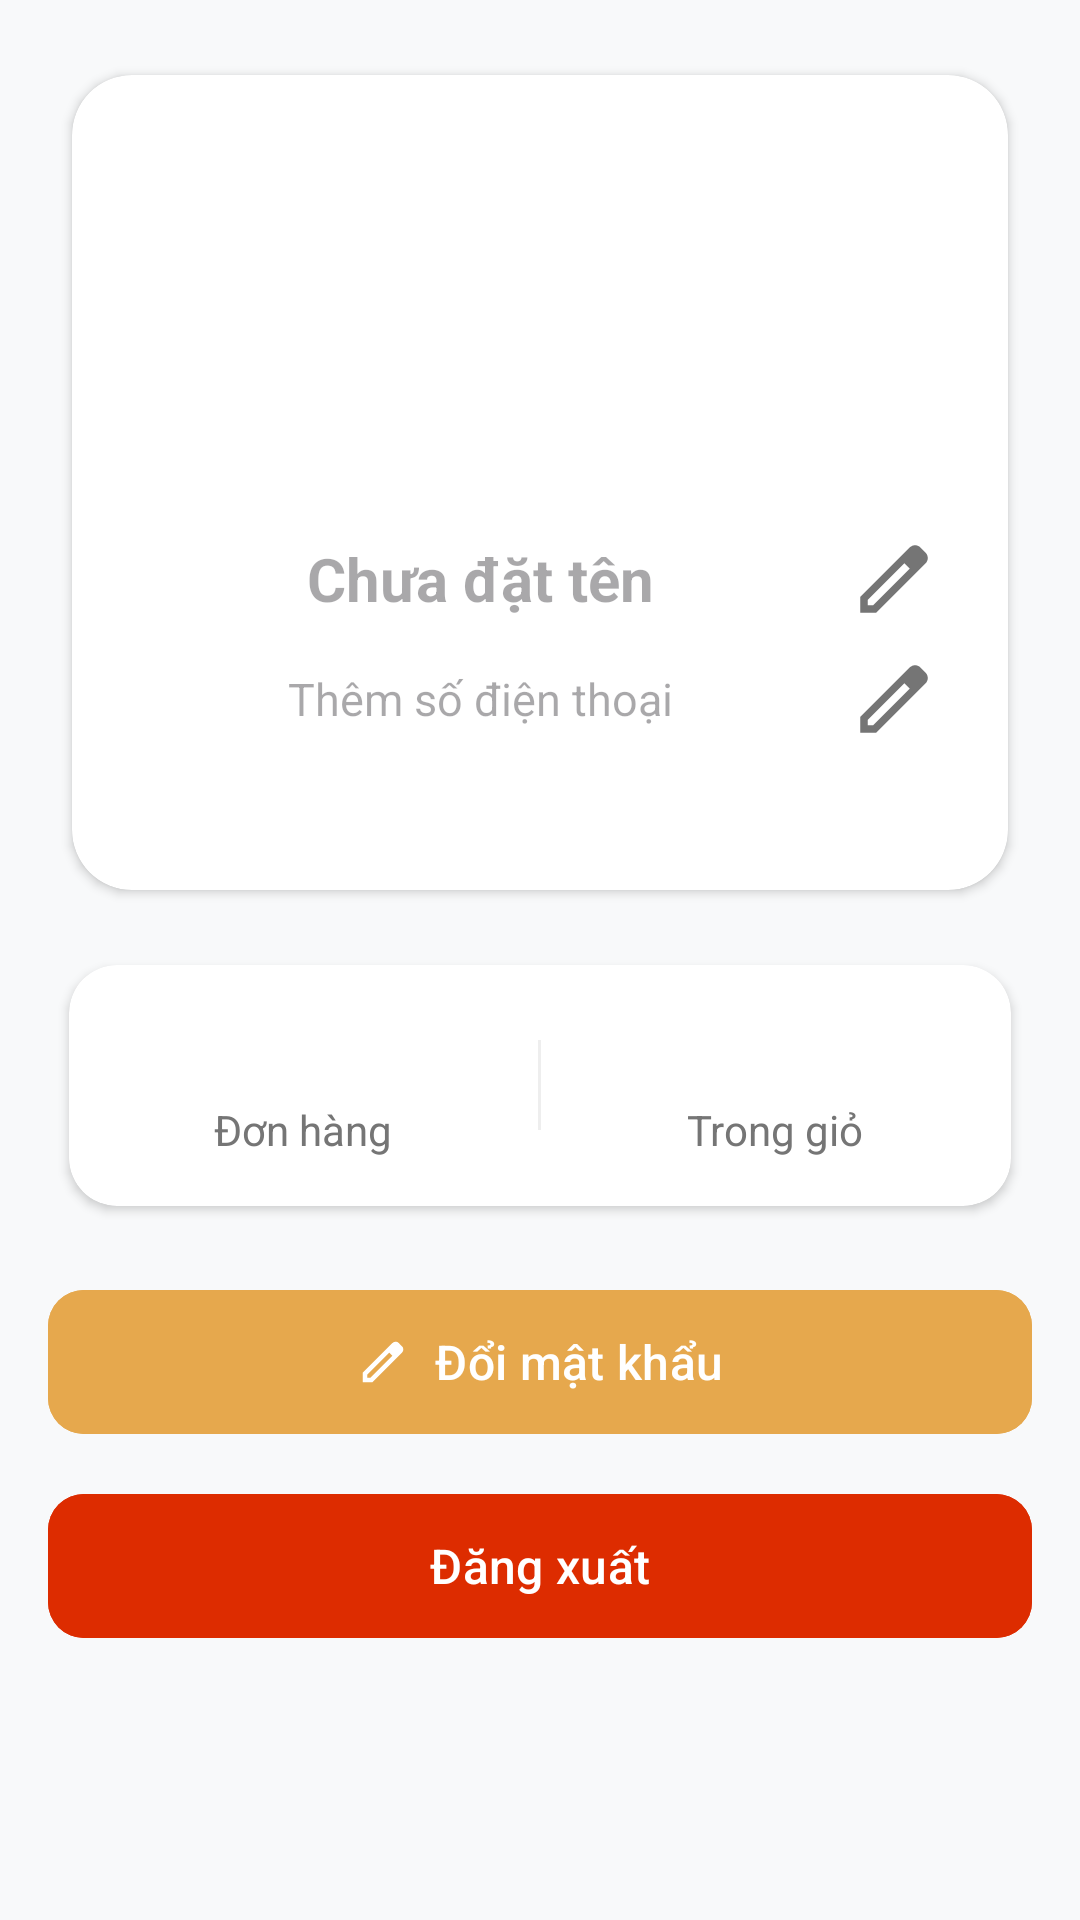

Point at icon controls on the screen. Image size 1080px×1920px, points as (x,y).
Edit name: (894,579)
Edit phone: (894,699)
